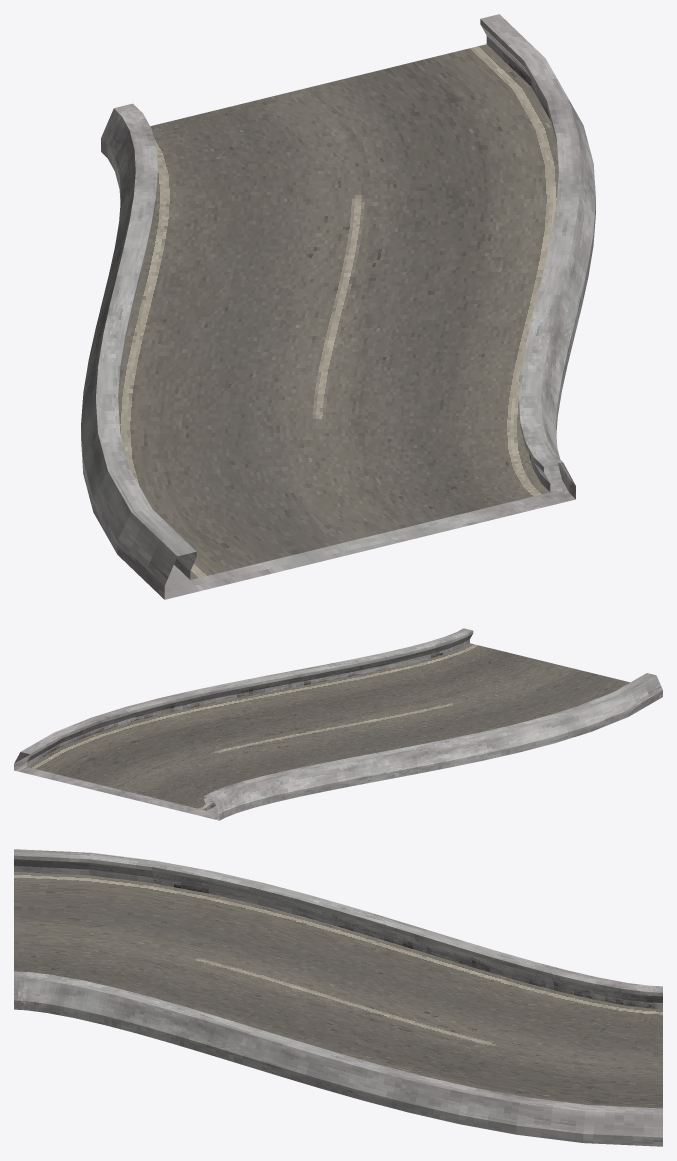
File: chicane-right1x2.glb
3 renders of one model, top to bottom at view 1: azimuth 30°, elevation 25°; view 2: azimuth 150°, elevation 25°; view 3: azimuth 270°, elevation 25°, orthographic. The views are drawn at different scales.
Visible parts, largest first — view 1: road-Chicane-Flat-Flat-Even-Right1-Size2; view 2: road-Chicane-Flat-Flat-Even-Right1-Size2; view 3: road-Chicane-Flat-Flat-Even-Right1-Size2.
Part boxes in pixels (x1,y1,x2,y2): road-Chicane-Flat-Flat-Even-Right1-Size2: (81, 14, 595, 599); road-Chicane-Flat-Flat-Even-Right1-Size2: (14, 628, 662, 820); road-Chicane-Flat-Flat-Even-Right1-Size2: (14, 849, 662, 1146).
Size of the model in its own units: 2 by 0.0938 by 2.
Materials: 2 (2 with a texture image).
